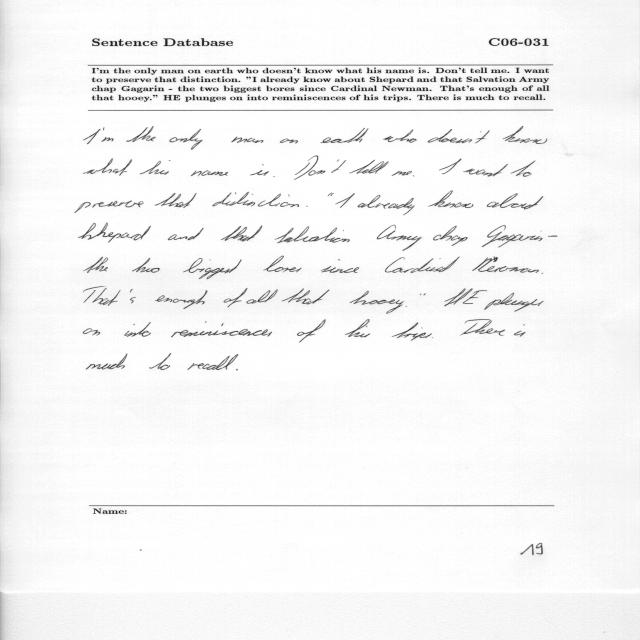word: (171, 322, 272, 338), (79, 223, 151, 243), (482, 226, 542, 248), (212, 192, 299, 207), (275, 226, 350, 243), (294, 156, 346, 180), (350, 291, 404, 314), (183, 258, 242, 279), (385, 257, 460, 273), (377, 225, 421, 251), (358, 195, 415, 215), (484, 293, 544, 312), (472, 256, 539, 273), (155, 290, 208, 309), (487, 194, 543, 210), (75, 200, 143, 213), (428, 129, 490, 143), (83, 159, 132, 176), (188, 354, 239, 370), (503, 126, 547, 144), (281, 289, 330, 305), (444, 289, 487, 307), (429, 191, 474, 208), (460, 319, 505, 336), (84, 286, 121, 306), (321, 128, 369, 143), (392, 323, 432, 341), (170, 129, 203, 150), (433, 226, 467, 246), (86, 354, 128, 370), (221, 226, 262, 242), (297, 320, 325, 343), (155, 193, 197, 208), (264, 256, 302, 272), (349, 160, 389, 174), (463, 164, 508, 176), (321, 259, 359, 273), (126, 126, 156, 142), (246, 289, 278, 304), (383, 129, 417, 143), (140, 160, 171, 175), (224, 288, 248, 307), (345, 320, 370, 338), (168, 228, 204, 240), (511, 160, 536, 177), (132, 258, 160, 273), (124, 322, 151, 337), (84, 257, 108, 273), (149, 353, 171, 370), (440, 159, 462, 174), (335, 193, 355, 208), (84, 129, 101, 144), (250, 164, 269, 176), (191, 171, 228, 177), (406, 294, 421, 307), (232, 137, 264, 143), (102, 127, 114, 142), (514, 324, 526, 337), (83, 329, 100, 336), (392, 171, 412, 176), (280, 139, 298, 144), (130, 289, 136, 303), (328, 193, 334, 196), (548, 235, 557, 237), (423, 294, 426, 296), (236, 369, 238, 371), (273, 176, 275, 177), (306, 206, 308, 207), (413, 176, 414, 177), (542, 273, 543, 274), (432, 337, 433, 338)
